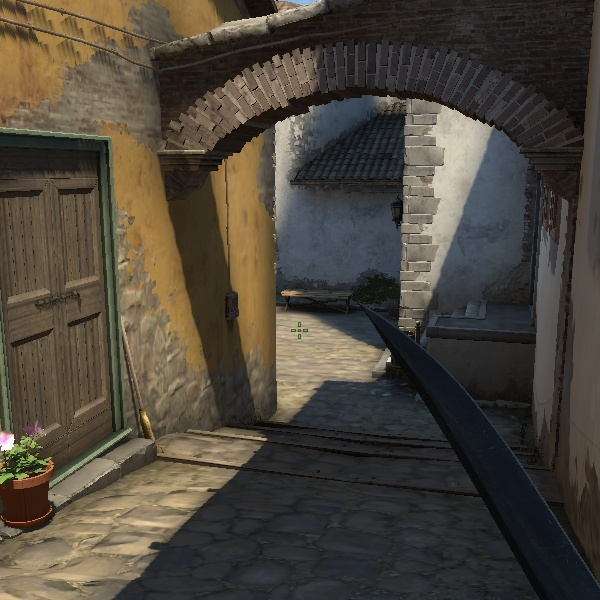t_head: (101, 0, 299, 156)
